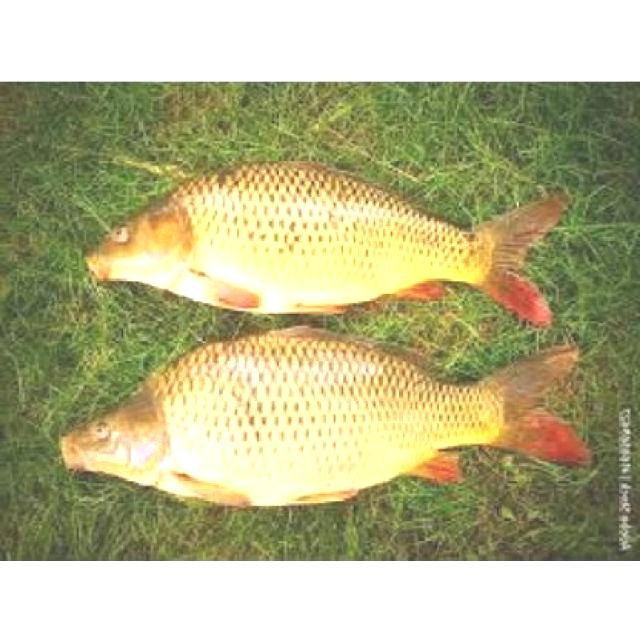ikan-mas: (57, 322, 583, 506), (86, 153, 576, 315)
